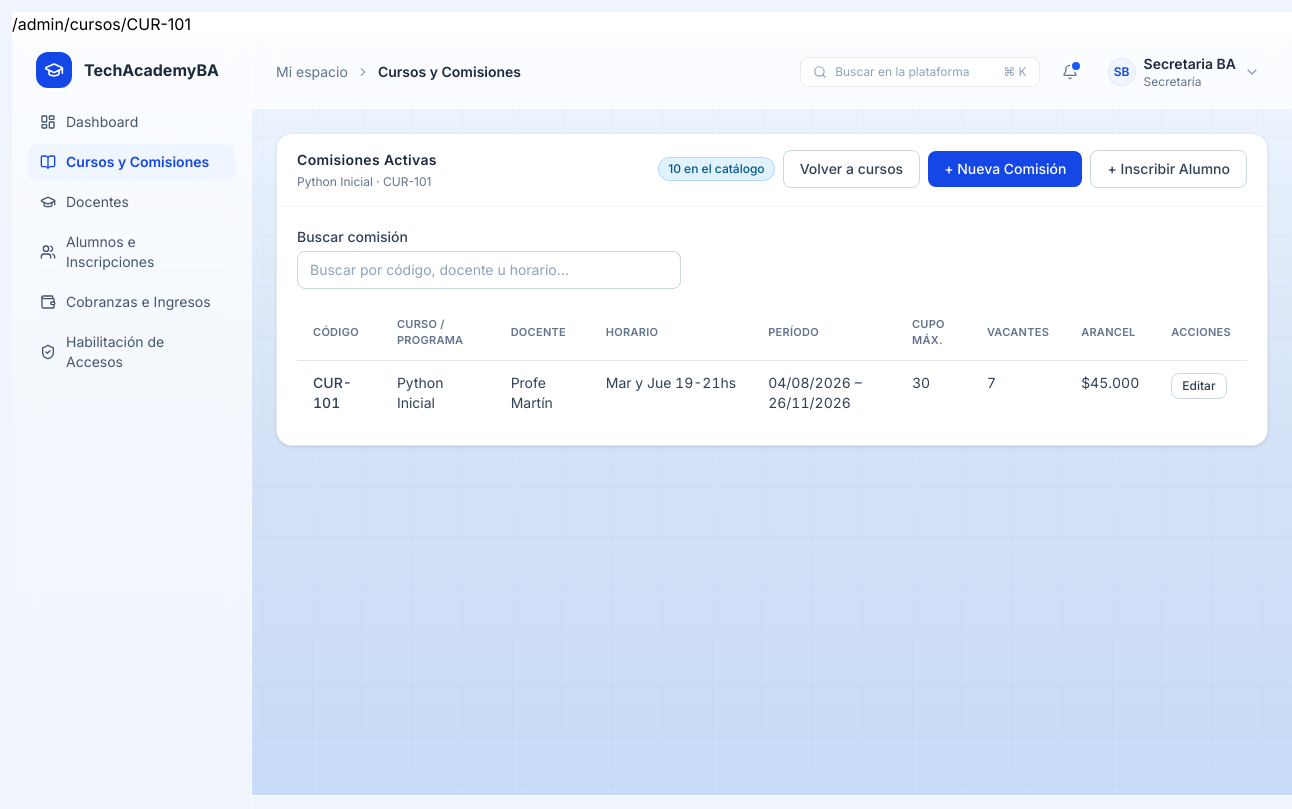
Scenario: vista de comisiones del curso › vuelve al catálogo
This screenshot has width=1292, height=809.
Expected: the heading "Comisiones Activas" is shown, [297,150,437,170]
What coordinates should you click on to do the following:
click the button "Volver a cursos"
I would click on:
 (851, 169)
Its box is [783,150,920,188].
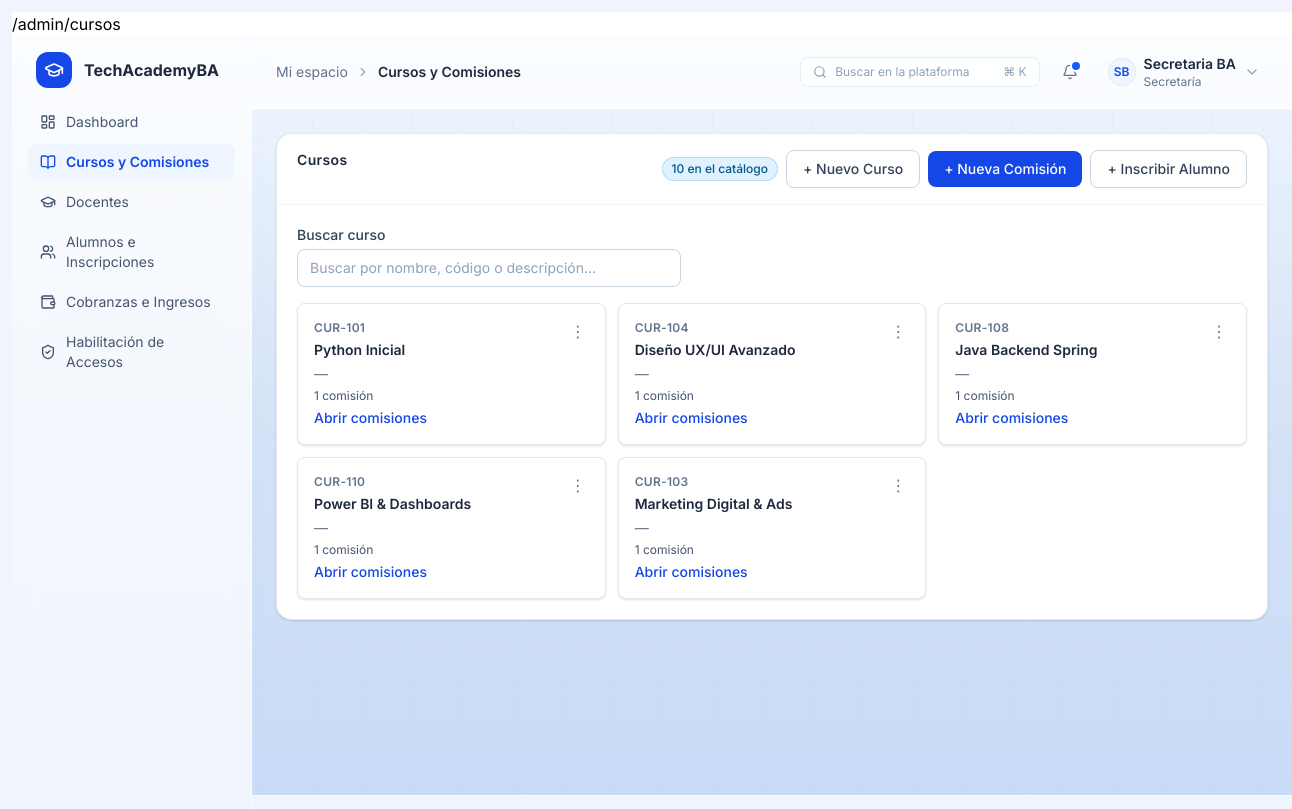
Expected: the text with test id "current-path" reads "/admin/cursos", [12,14,121,34]
Expected: the heading "Cursos" is shown, [297,150,348,170]
